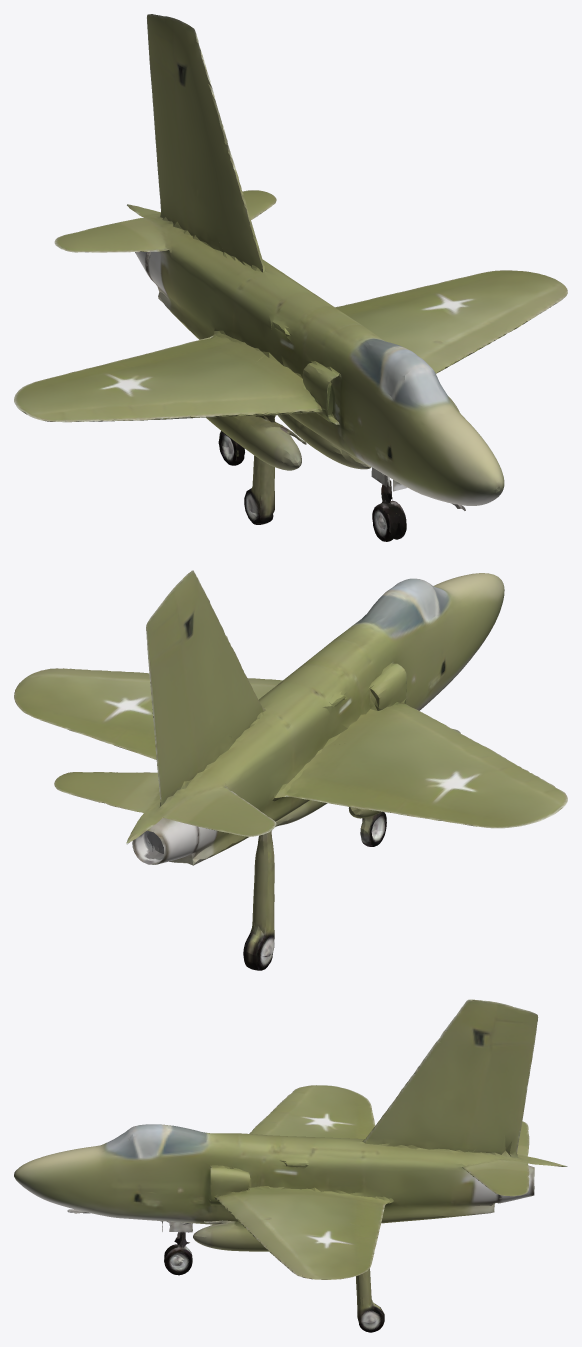
Rendered from centurion_tail.glb.
The picture shows the model from 3 angles, top to bottom: view 1: azimuth 30°, elevation 25°; view 2: azimuth 150°, elevation 25°; view 3: azimuth 270°, elevation 25°; orthographic projection. The views are drawn at different scales.
Parts seen in each view (by area): view 1: centurion_tail; view 2: centurion_tail; view 3: centurion_tail.
Part boxes in pixels (x1,y1,x2,y2): centurion_tail: (14, 14, 567, 541); centurion_tail: (14, 570, 567, 970); centurion_tail: (14, 999, 567, 1332).
Bounding box in the file's own units: 1.57 × 1.25 × 1.89.
1 material, 1 textured.
